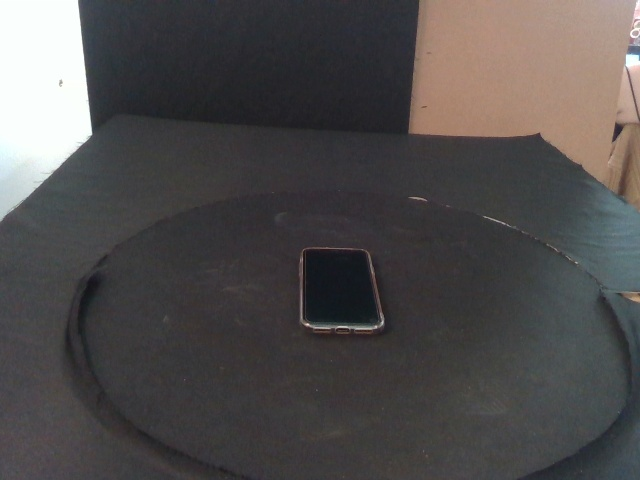phone: (298, 247, 384, 336)
